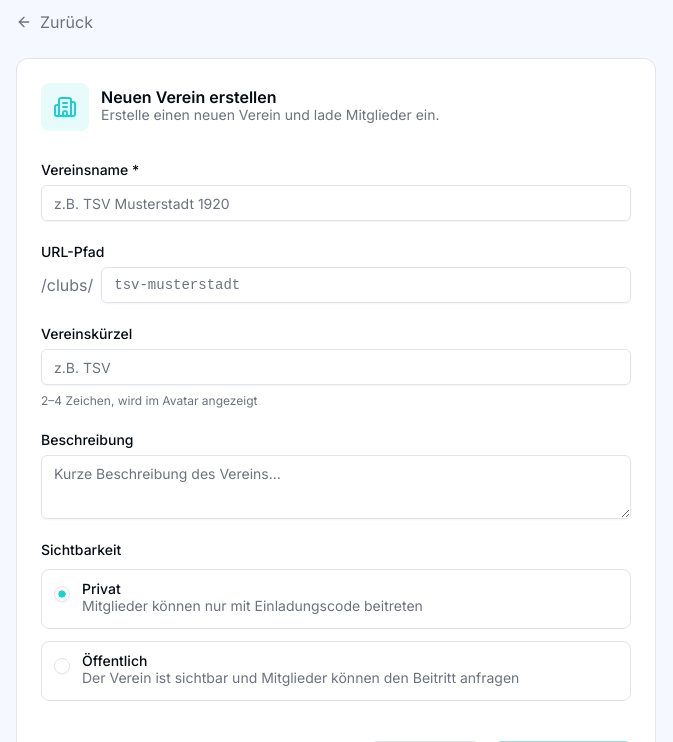
Scenario: NewClubPage › sunshine path › auto-generates slug from name
Type "TSV Musterstadt 1920" into the field labelled "Vereinsname *". click: (336, 203)
box: [41,185,631,221]
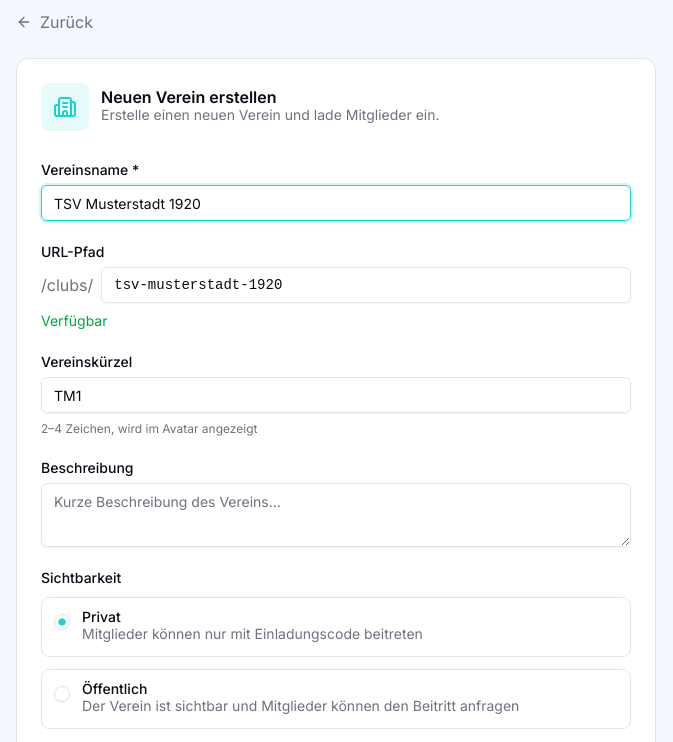
Expected: the field labelled "URL-Pfad" holds "tsv-musterstadt-1920", [101,267,631,303]
